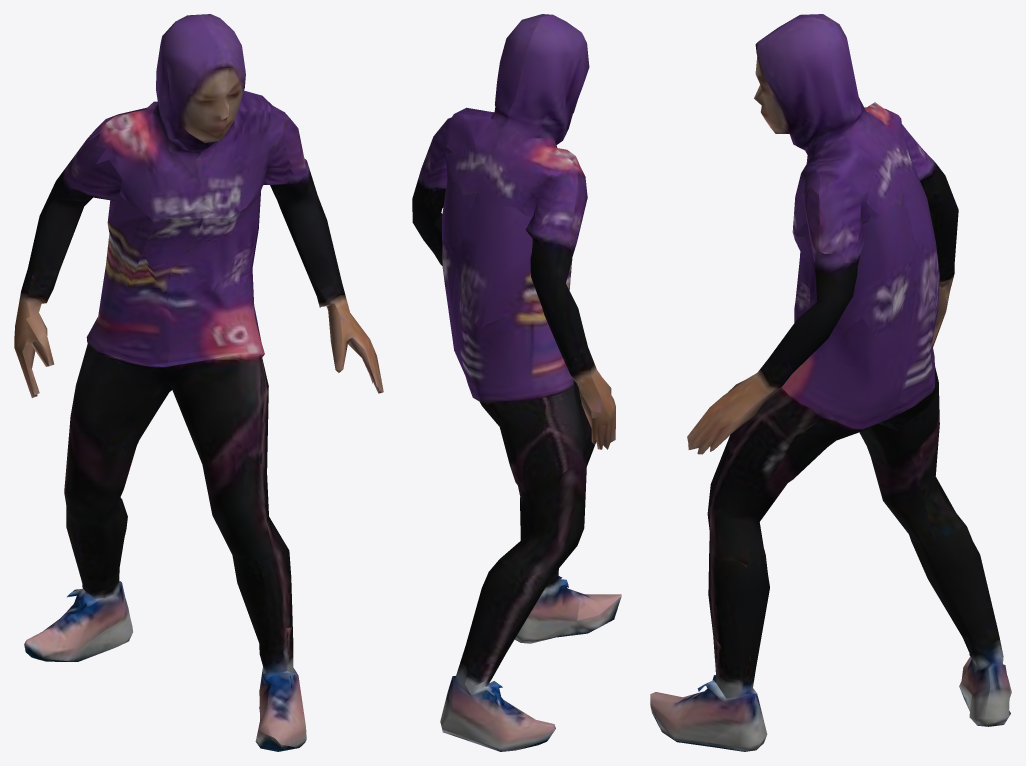
File: 10_4_idle_lod2.glb
3 renders of one model, left to right at view 1: azimuth 30°, elevation 25°; view 2: azimuth 150°, elevation 25°; view 3: azimuth 270°, elevation 25°, orthographic. The views are drawn at different scales.
Parts seen in each view (by area): view 1: Idle; view 2: Idle; view 3: Idle.
Boxes of the visible parts, x1,y1,x2,y2 form: Idle: (14, 14, 383, 751); Idle: (412, 14, 621, 751); Idle: (650, 14, 1011, 751).
Bounding box in the file's own units: 37.72 × 94.85 × 43.93.
Materials: 1 (1 with a texture image).
